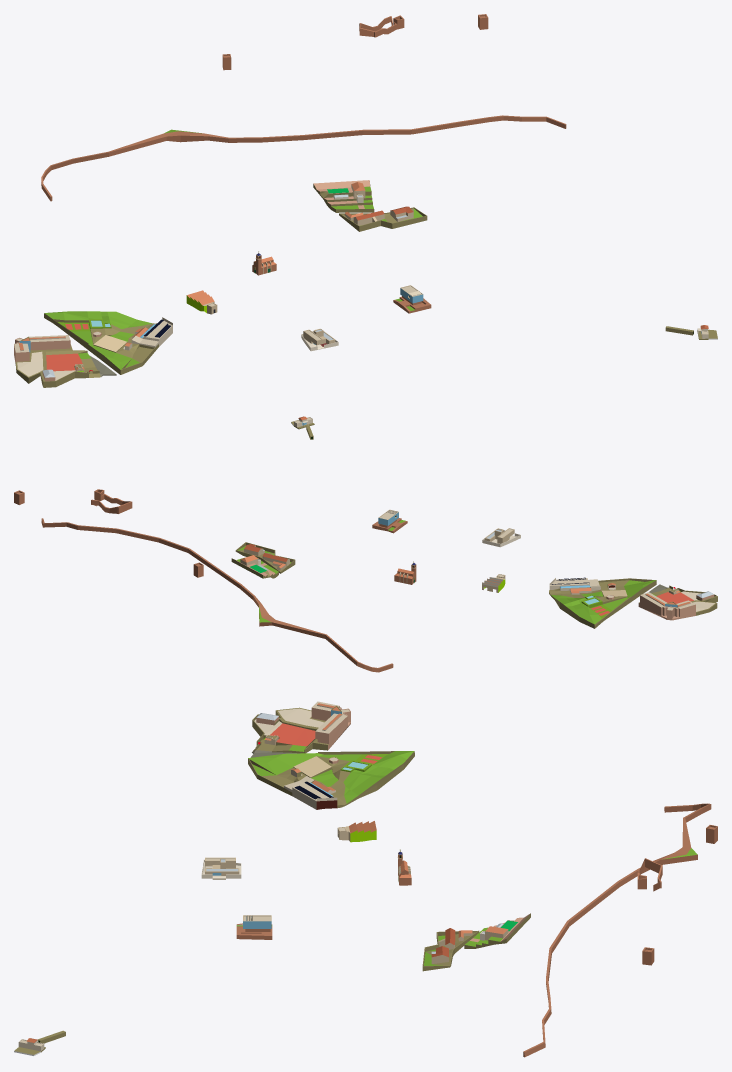
Rendered from pois.glb.
3 renders of one model, top to bottom at view 1: azimuth 30°, elevation 25°; view 2: azimuth 150°, elevation 25°; view 3: azimuth 270°, elevation 25°, orthographic. The views are drawn at different scales.
Parts seen in each view (by area): view 1: polideportivo, paseo-castillo, ies-almenara, ceip-ereta, ayuntamiento, castillo; view 2: polideportivo, paseo-castillo, ies-almenara, ceip-ereta, castillo, ayuntamiento, centro-salud; view 3: polideportivo, ies-almenara, paseo-castillo, ceip-ereta, ayuntamiento, centro-salud, mercado, estacion-tren.
Part boxes in pixels (x1=…): polideportivo: x1=44, y1=311, x2=172, y2=374; paseo-castillo: x1=41, y1=115, x2=566, y2=201; ies-almenara: x1=14, y1=335, x2=116, y2=387; ceip-ereta: x1=313, y1=180, x2=427, y2=231; ayuntamiento: x1=393, y1=285, x2=431, y2=313; castillo: x1=359, y1=15, x2=404, y2=37; polideportivo: x1=549, y1=577, x2=656, y2=628; paseo-castillo: x1=41, y1=518, x2=393, y2=672; ies-almenara: x1=638, y1=584, x2=717, y2=620; ceip-ereta: x1=231, y1=542, x2=295, y2=578; castillo: x1=91, y1=489, x2=132, y2=513; ayuntamiento: x1=372, y1=509, x2=407, y2=533; centro-salud: x1=482, y1=528, x2=520, y2=547; polideportivo: x1=248, y1=751, x2=414, y2=809; ies-almenara: x1=251, y1=701, x2=350, y2=757; paseo-castillo: x1=523, y1=803, x2=711, y2=1057; ceip-ereta: x1=422, y1=913, x2=530, y2=971; ayuntamiento: x1=236, y1=915, x2=272, y2=939; centro-salud: x1=201, y1=857, x2=241, y2=879; mercado: x1=337, y1=821, x2=376, y2=842; estacion-tren: x1=14, y1=1030, x2=65, y2=1055.
Bounding box in the file's own units: 1230 × 239 × 1011.
